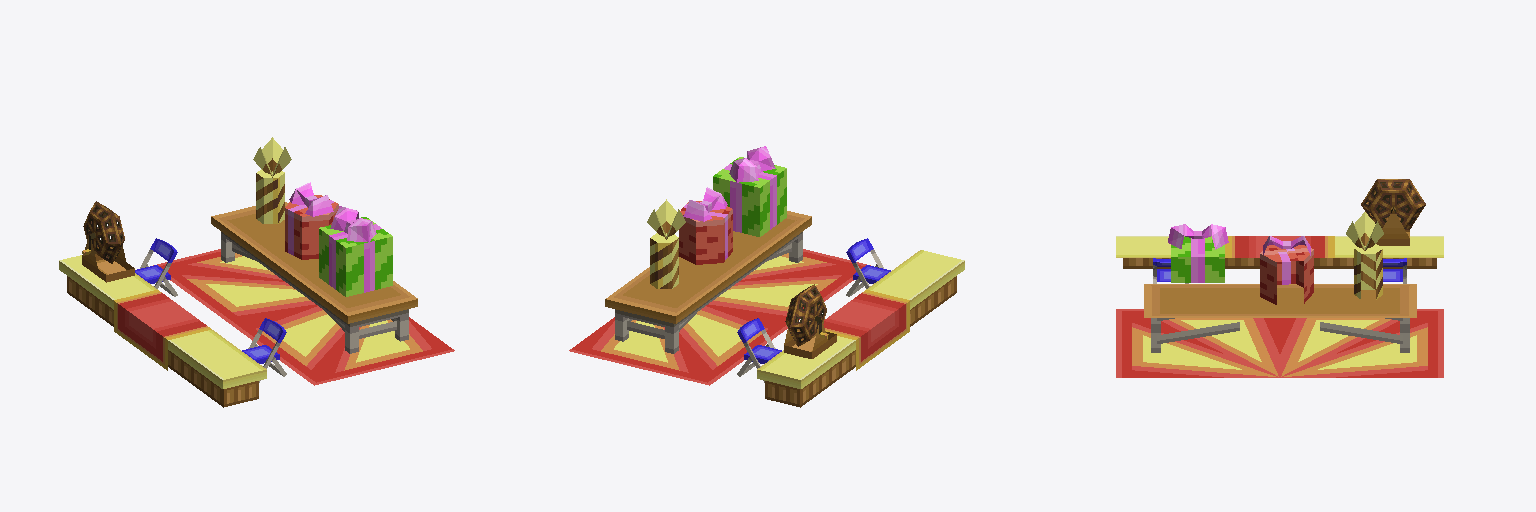
3 renders of one model, left to right at view 1: azimuth 30°, elevation 25°; view 2: azimuth 150°, elevation 25°; view 3: azimuth 270°, elevation 25°, orthographic.
Visible parts, largest first — view 1: polygon0; view 2: polygon0; view 3: polygon0.
Boxes of the visible parts, x1,y1,x2,y2 form: polygon0: [59, 137, 454, 407]; polygon0: [569, 146, 964, 407]; polygon0: [1116, 179, 1443, 377].
Bounding box in the file's own units: 10 × 5.44 × 13.
Materials: 2 (2 with a texture image).